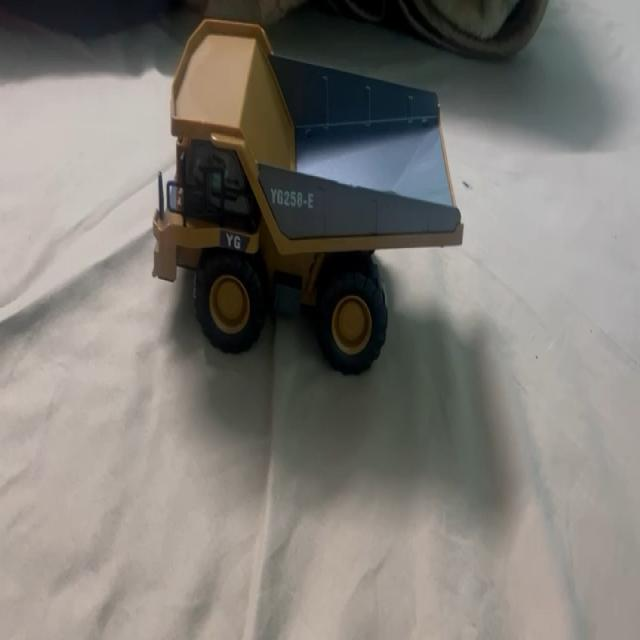dump_truck: (150, 13, 466, 373)
